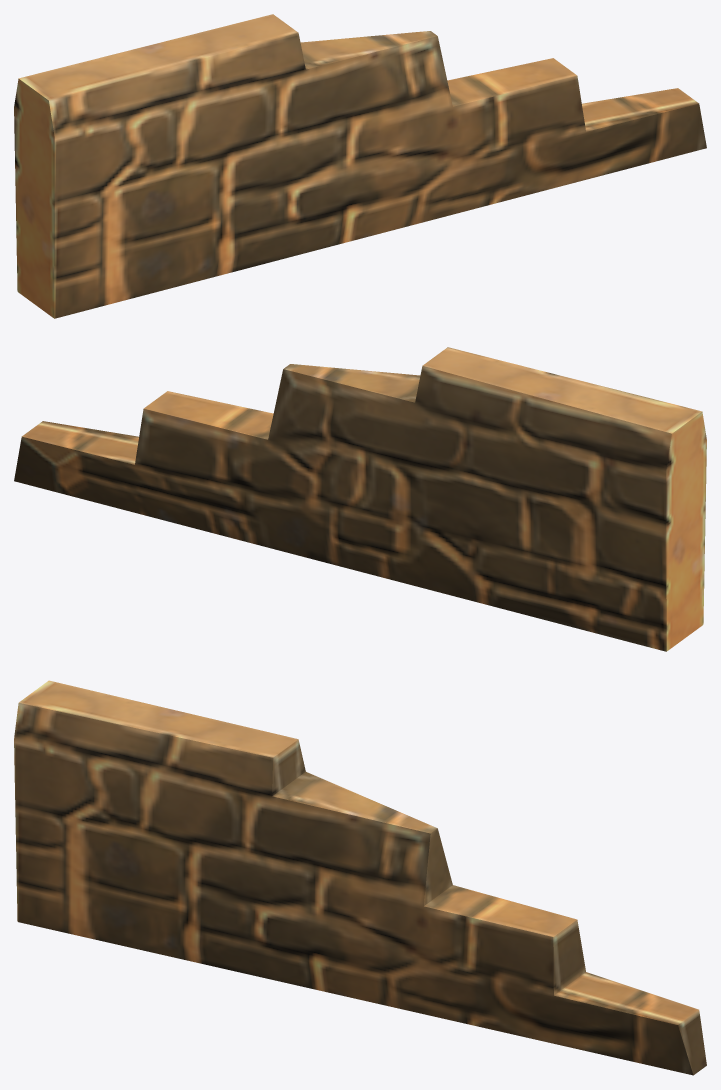
The model's file is Wall_1.fbx.
3 views of the same model, one above another, from view 1: azimuth 30°, elevation 25°; view 2: azimuth 150°, elevation 25°; view 3: azimuth 330°, elevation 25° (orthographic).
Visible parts, largest first — view 1: remnants_4; view 2: remnants_4; view 3: remnants_4.
Part boxes in pixels (x1,y1,x2,y2): remnants_4: [14, 14, 706, 318]; remnants_4: [14, 347, 706, 651]; remnants_4: [14, 680, 706, 1075].
Bounding box in the file's own units: 4.29 × 1.36 × 0.4525.
